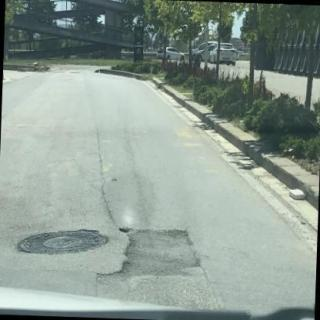pothole: (97, 228, 206, 281)
